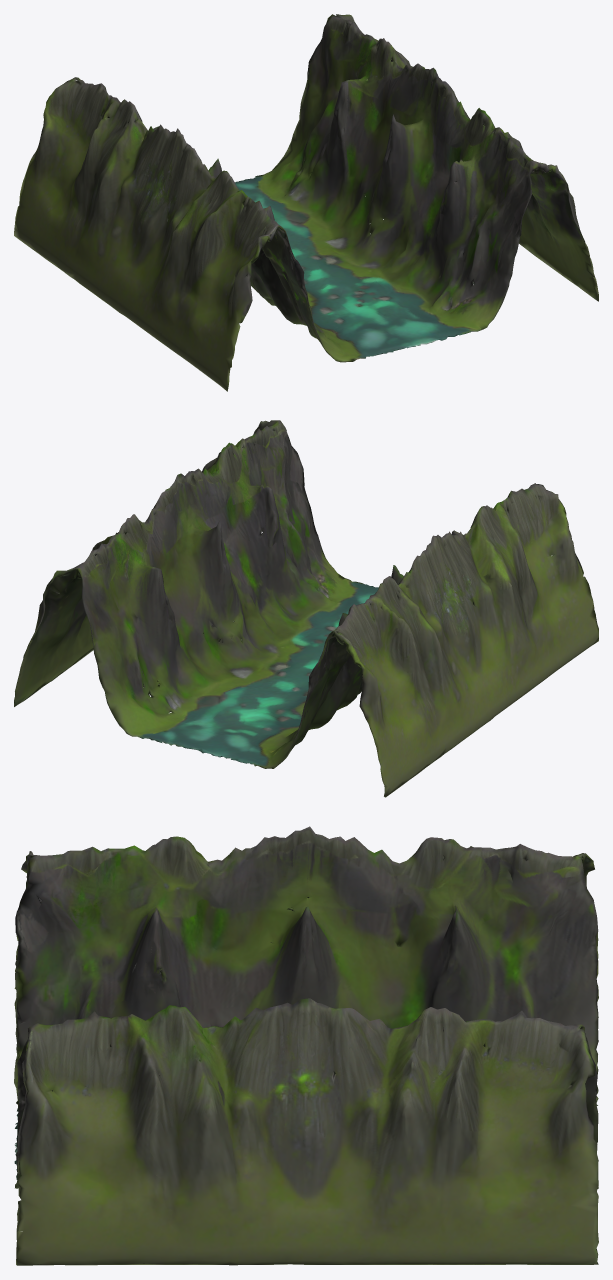
The model's file is Mountains.glb.
The picture shows the model from 3 angles, top to bottom: view 1: azimuth 30°, elevation 25°; view 2: azimuth 150°, elevation 25°; view 3: azimuth 270°, elevation 25°; orthographic projection. The views are drawn at different scales.
Size of the model in its own units: 2 by 0.8781 by 2.01.
Materials: 1 (1 with a texture image).
